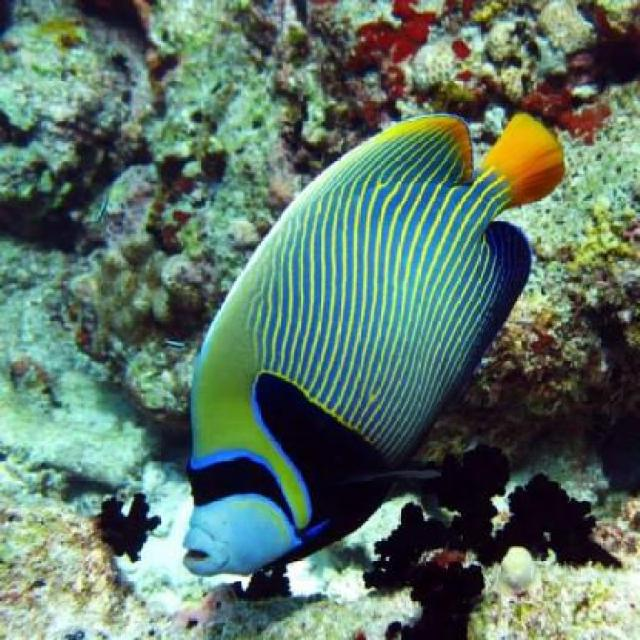AngelFish: (189, 109, 565, 586)
